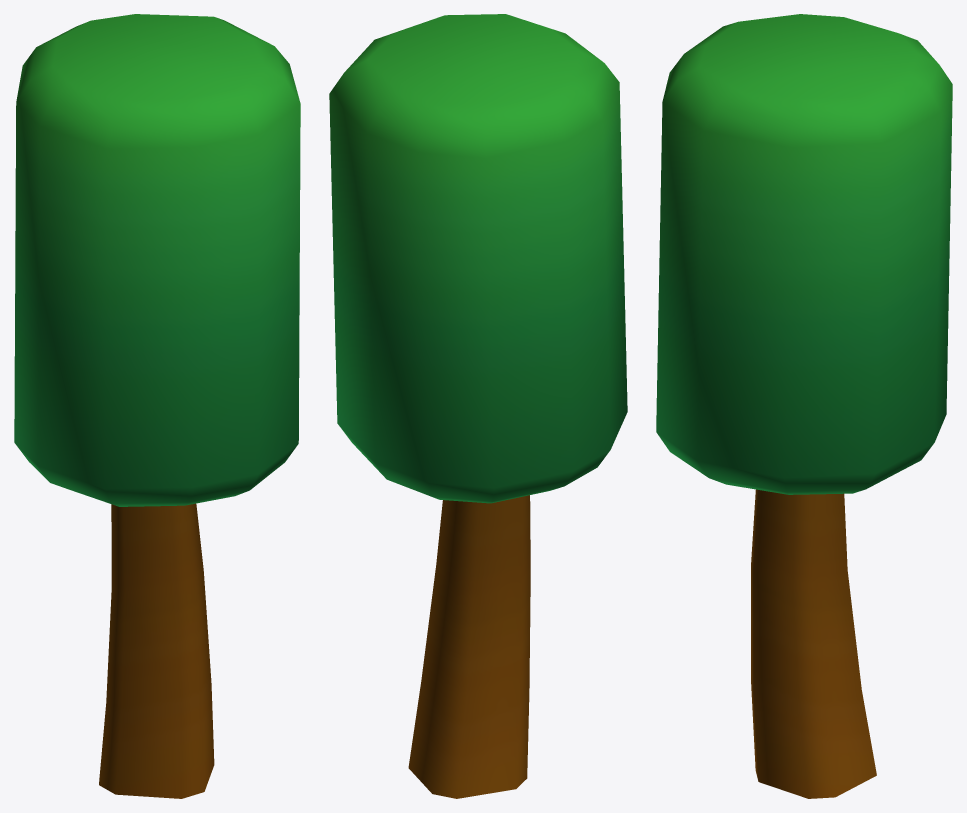
Rendered from Tree_A_1.fbx.
3 views of the same model, side by side, from view 1: azimuth 30°, elevation 25°; view 2: azimuth 150°, elevation 25°; view 3: azimuth 270°, elevation 25° (orthographic).
Parts seen in each view (by area): view 1: Tree_A_1; view 2: Tree_A_1; view 3: Tree_A_1.
Part boxes in pixels (x1,y1,x2,y2): Tree_A_1: (14,14,300,798); Tree_A_1: (329,14,627,798); Tree_A_1: (656,14,952,798).
Size of the model in its own units: 127 by 348 by 130.
